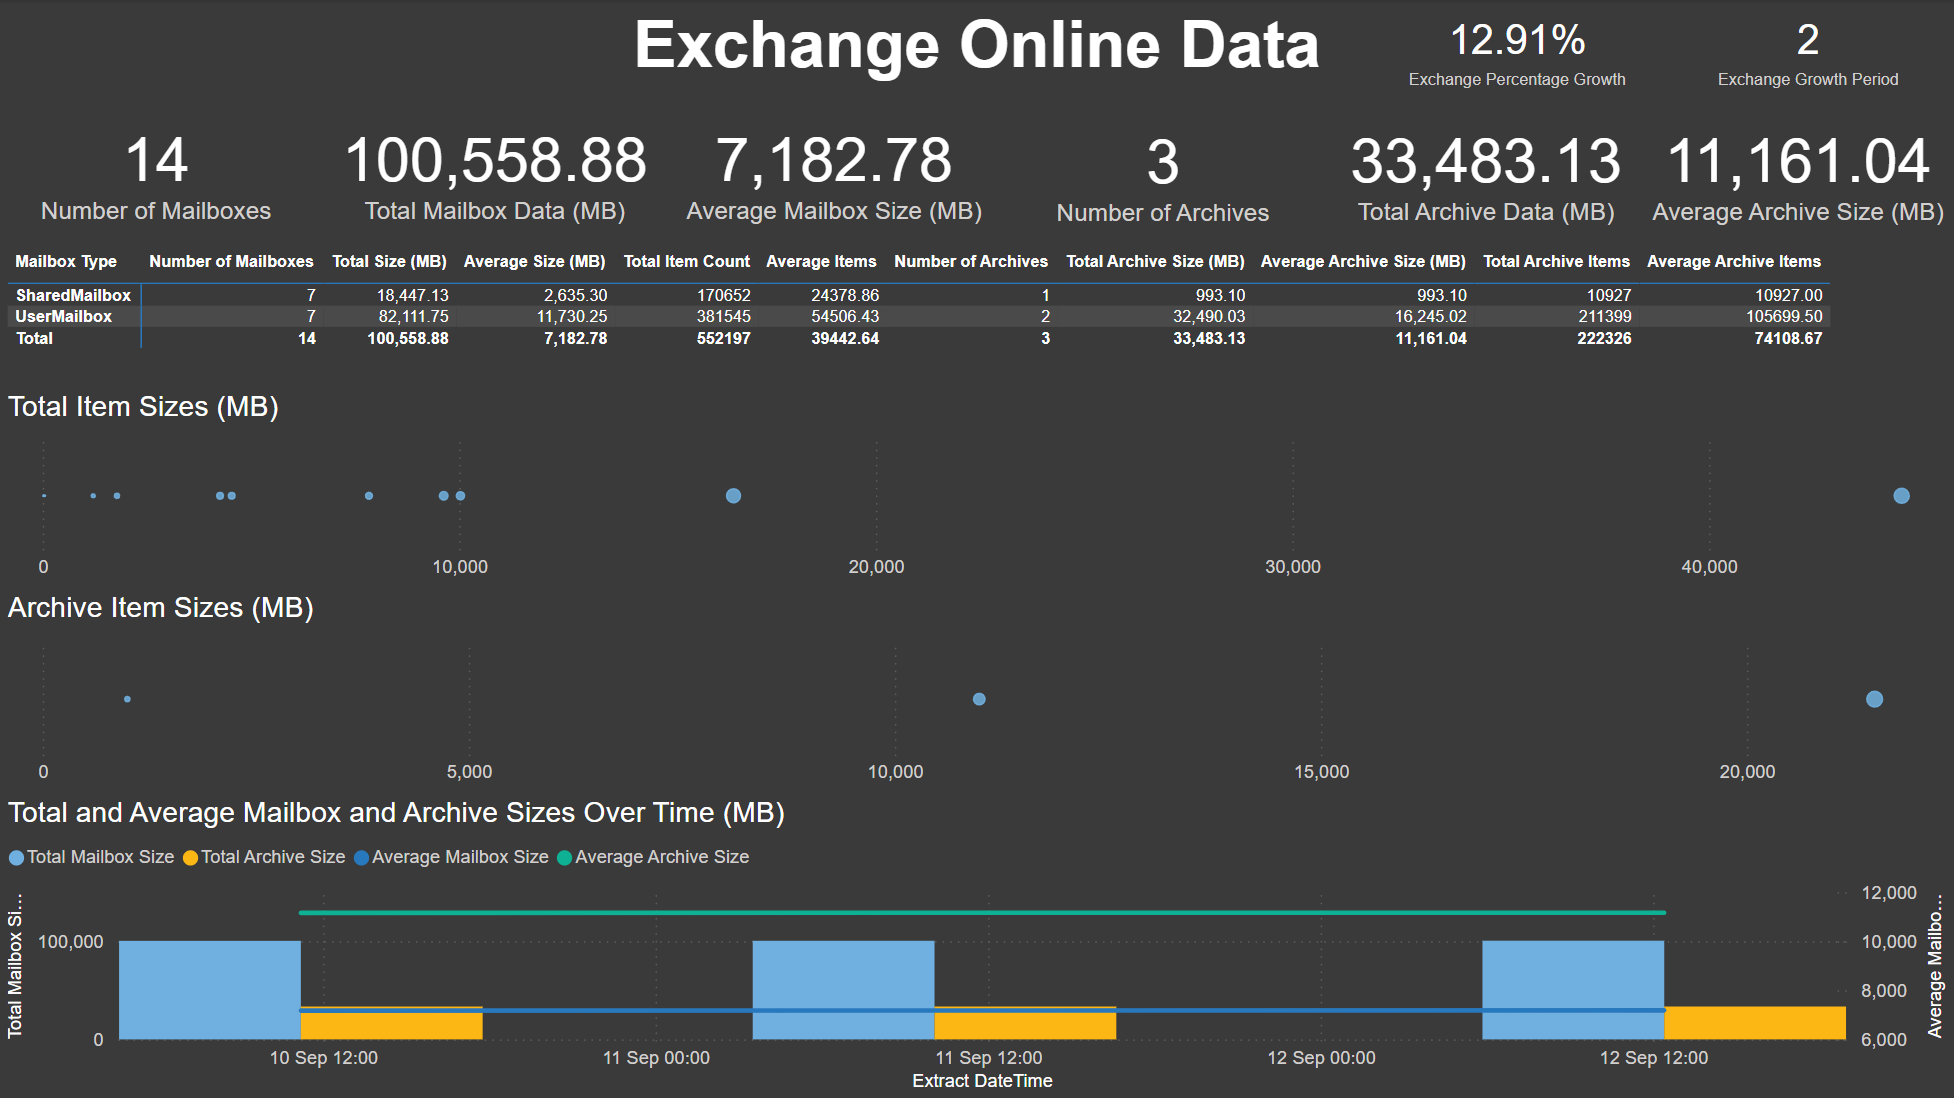

What the dashboard file says about the page in this screenshot:
{"tool":"powerbi","page":{"name":"Exchange Online","canvas":[1280,720],"ordinal":2},"visuals":[{"type":"pivotTable","fields":{"Rows":["EXO.RecipientTypeDetails"],"Values":["Count(EXO.Alias)","Sum(EXO.TotalItemSize(MB))","Avg(EXO.TotalItemSize(MB))","Sum(EXO.ItemCount)","Avg(EXO.ItemCount)","CountNonNull(EXO.Archive_TotalItemSize(MB))","Sum(EXO.Archive_TotalItemSize(MB))","Avg(EXO.Archive_TotalItemSize(MB))","Sum(EXO.Archive_ItemCount)","Avg(EXO.Archive_ItemCount)"]},"box":[0,159.1,1280,96.4],"z":0},{"type":"textbox","box":[0,0,1280,63.2],"z":1000},{"type":"card","fields":{"Values":["CountNonNull(EXO.DisplayName)"]},"box":[0,63.2,204.5,94.5],"z":2000},{"type":"card","fields":{"Values":["Sum(EXO.TotalItemSize(MB))"]},"box":[204.5,63.2,239.5,94.5],"z":3000},{"type":"card","fields":{"Values":["Avg(EXO.TotalItemSize(MB))"]},"box":[444,63.2,204.5,95.2],"z":4000},{"type":"card","fields":{"Values":["Sum(EXO.Archive_TotalItemSize(MB))"]},"box":[870.9,64,204.5,94.5],"z":5000},{"type":"card","fields":{"Values":["Avg(EXO.Archive_TotalItemSize(MB))"]},"box":[1075.5,64,204.5,95.2],"z":6000},{"type":"card","fields":{"Values":["CountNonNull(EXO.Archive_ItemCount)"]},"box":[659.7,64.7,204.5,94.5],"z":7000},{"type":"scatterChart","title":"Total Item Sizes (MB)","fields":{"X":["EXO.TotalItemSize(MB)"],"Size":["Sum(EXO.ItemCount)"]},"box":[0,255.5,1280,131.6],"z":8000},{"type":"scatterChart","title":"Archive Item Sizes (MB)","fields":{"X":["EXO.Archive_TotalItemSize(MB)"],"Size":["Sum(EXO.Archive_ItemCount)"]},"box":[0,387.1,1280,134.7],"z":9000},{"type":"lineClusteredColumnComboChart","title":"Total and Average Mailbox and Archive Sizes Over Time (MB)","fields":{"Category":["EXOHistoric.Extract DateTime.Variation.Date Hierarchy.Year"],"Y2":["Avg(EXOHistoric.TotalItemSize(MB))","Avg(EXOHistoric.Archive_TotalItemSize(MB))"],"Y":["Sum(EXOHistoric.TotalItemSize(MB))","Sum(EXOHistoric.Archive_TotalItemSize(MB))"]},"box":[0,521.6,1280.3,198.4],"z":10000},{"type":"card","fields":{"Values":["Sum(Calculated Data.Exchange Percentage Growth)"]},"box":[899,0,190.5,64.7],"z":11000},{"type":"card","fields":{"Values":["Sum(Calculated Data.Exchange Growth Period)"]},"box":[1089.5,0,190.5,64.7],"z":12000}]}

Visuals, with their boxes in screenshot pixels (x1, y1, x2, y2), scaled from the page's 1280x720 canvas onto the 1954x1098 screenshot:
pivotTable - EXO.RecipientTypeDetails x Count(EXO.Alias): Rect(0, 243, 1953, 390)
textbox: Rect(0, 0, 1953, 96)
card - CountNonNull(EXO.DisplayName): Rect(0, 96, 312, 240)
card - Sum(EXO.TotalItemSize(MB)): Rect(312, 96, 678, 240)
card - Avg(EXO.TotalItemSize(MB)): Rect(678, 96, 990, 242)
card - Sum(EXO.Archive_TotalItemSize(MB)): Rect(1329, 98, 1642, 242)
card - Avg(EXO.Archive_TotalItemSize(MB)): Rect(1642, 98, 1953, 243)
card - CountNonNull(EXO.Archive_ItemCount): Rect(1007, 99, 1319, 243)
"Total Item Sizes (MB)" scatterChart: Rect(0, 390, 1953, 590)
"Archive Item Sizes (MB)" scatterChart: Rect(0, 590, 1953, 796)
"Total and Average Mailbox and Archive Sizes Over Time (MB)" lineClusteredColumnComboChart: Rect(0, 795, 1953, 1097)
card - Sum(Calculated Data.Exchange Percentage Growth): Rect(1372, 0, 1663, 99)
card - Sum(Calculated Data.Exchange Growth Period): Rect(1663, 0, 1953, 99)
